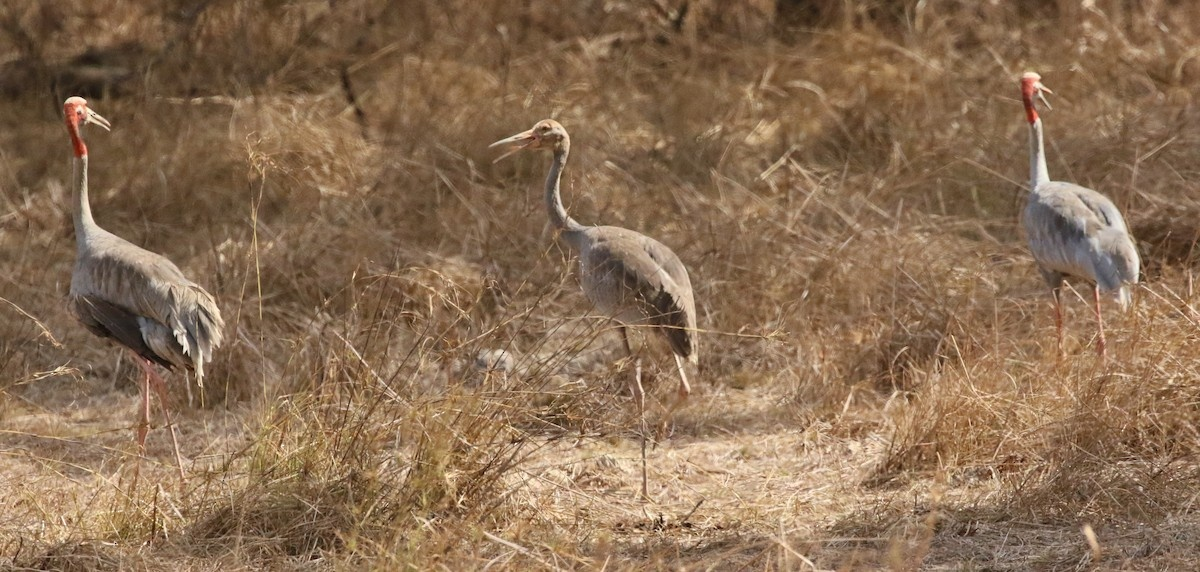crane: (484, 111, 721, 512), (55, 92, 221, 482), (1012, 68, 1150, 370)
